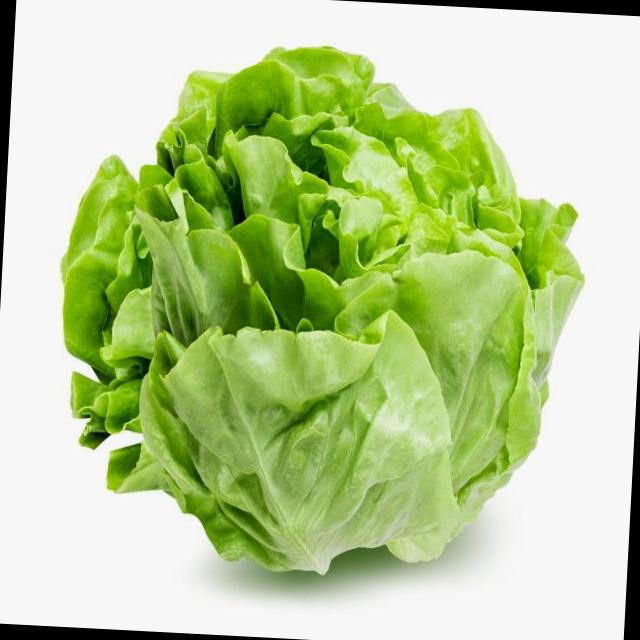Lettuce-Ready-to-Harvest: (62, 47, 582, 574)
